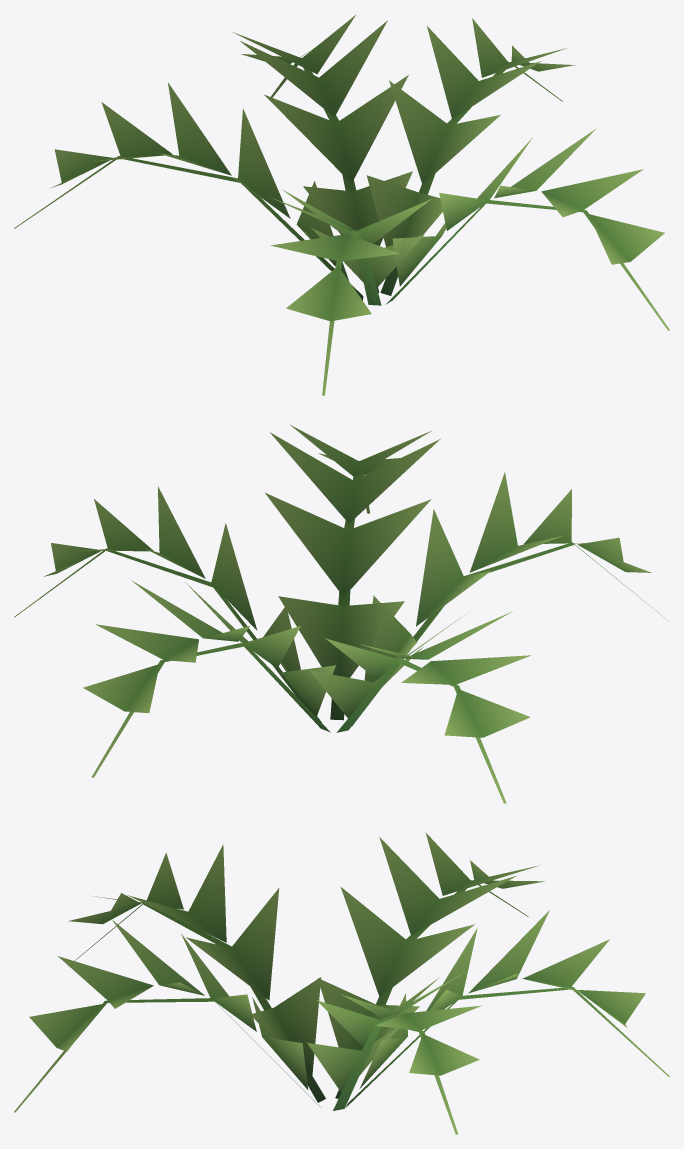
The model's file is deco-fern-low.glb.
3 views of the same model, one above another, from view 1: azimuth 30°, elevation 25°; view 2: azimuth 150°, elevation 25°; view 3: azimuth 270°, elevation 25° (orthographic). The views are drawn at different scales.
Parts seen in each view (by area): view 1: 0_fern; view 2: 0_fern; view 3: 0_fern.
Part boxes in pixels (left/top/right/bottom): 0_fern: left=14, top=15, right=669, bottom=395; 0_fern: left=14, top=425, right=667, bottom=803; 0_fern: left=14, top=832, right=669, bottom=1134.
Size of the model in its own units: 1.25 by 0.4523 by 1.41.
